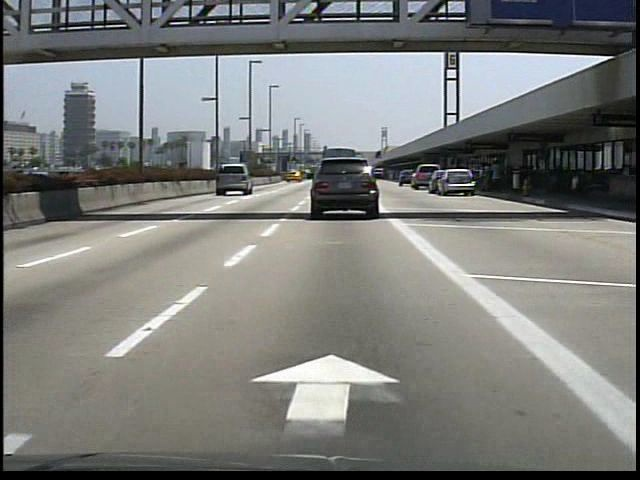person: (488, 157, 506, 195), (476, 162, 491, 195)
